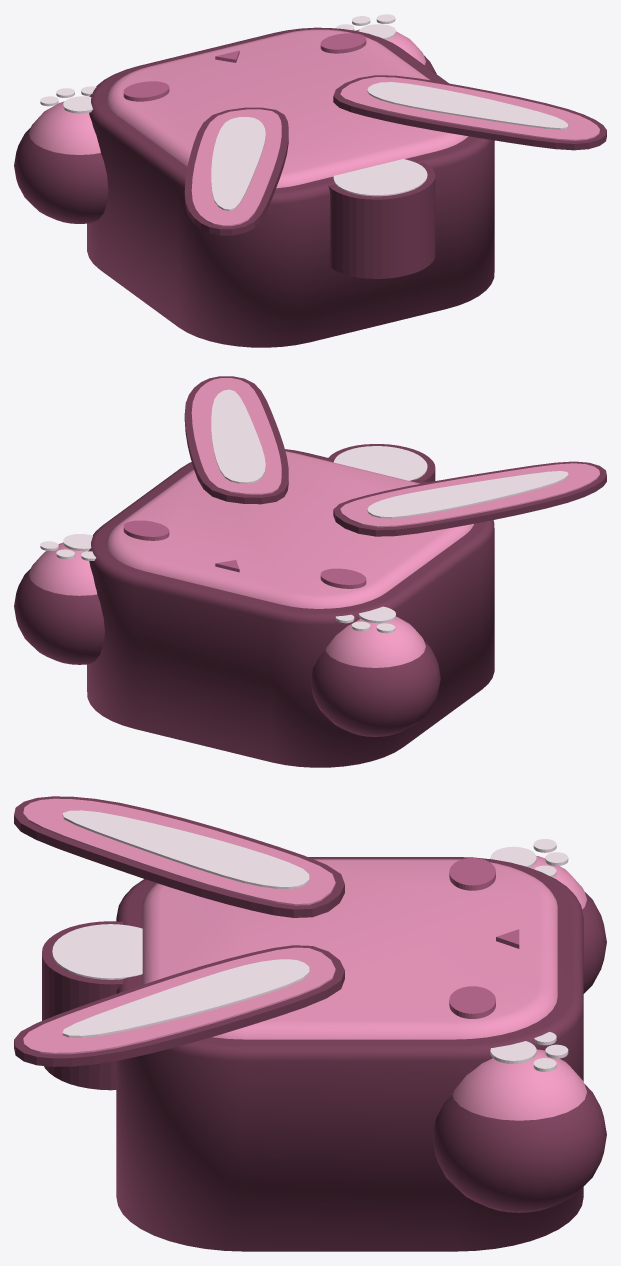
The model's file is body_coelho.fbx.
The picture shows the model from 3 angles, top to bottom: view 1: azimuth 30°, elevation 25°; view 2: azimuth 150°, elevation 25°; view 3: azimuth 270°, elevation 25°; orthographic projection. The views are drawn at different scales.
Visible parts, largest first — view 1: body_coelho_corpo, body_coelho_mao_esq, body_coelho_mao; view 2: body_coelho_corpo, body_coelho_mao_esq, body_coelho_mao; view 3: body_coelho_corpo, body_coelho_mao, body_coelho_mao_esq.
Boxes of the visible parts, <box> form: body_coelho_corpo: <box>87,27,606,347</box>; body_coelho_mao_esq: <box>14,86,108,223</box>; body_coelho_mao: <box>336,14,436,73</box>; body_coelho_corpo: <box>87,376,606,767</box>; body_coelho_mao_esq: <box>310,606,440,736</box>; body_coelho_mao: <box>14,534,104,664</box>; body_coelho_corpo: <box>14,796,583,1251</box>; body_coelho_mao: <box>432,1032,606,1212</box>; body_coelho_mao_esq: <box>490,839,606,993</box>.
Size of the model in its own units: 5.4 by 2.17 by 5.08.
1 material, 1 textured.
